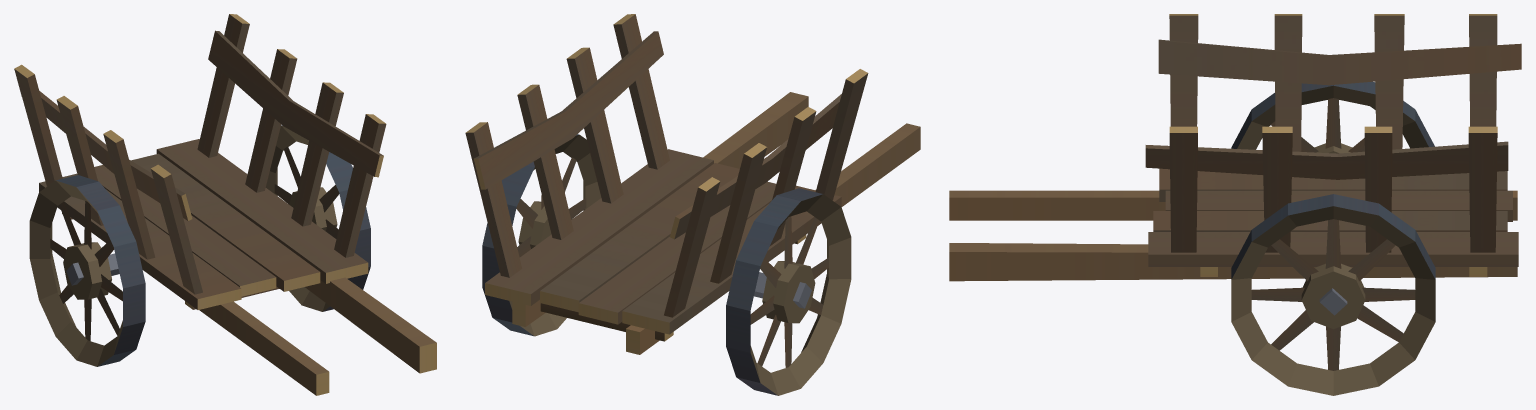
File: Cart_LOD1.fbx
The picture shows the model from 3 angles, left to right: view 1: azimuth 30°, elevation 25°; view 2: azimuth 150°, elevation 25°; view 3: azimuth 270°, elevation 25°; orthographic projection. The views are drawn at different scales.
Visible parts, largest first — view 1: polySurface9718; view 2: polySurface9718; view 3: polySurface9718.
Boxes of the visible parts, bbox=[...] form: polySurface9718: bbox=[14, 14, 436, 395]; polySurface9718: bbox=[465, 14, 920, 395]; polySurface9718: bbox=[949, 14, 1521, 395].
Size of the model in its own units: 221 by 195 by 390.
